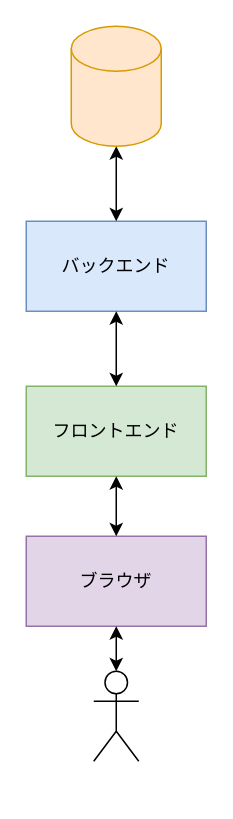
Image size: 233x819. Some labels were removed from this diagram. The shapes that lost their labels are listed below. From the top down, each one's box as (x1, y1, x2, y2) in pixels, then its label:
(70, 25, 161, 146): サーバ
(92, 670, 139, 761): Actor
